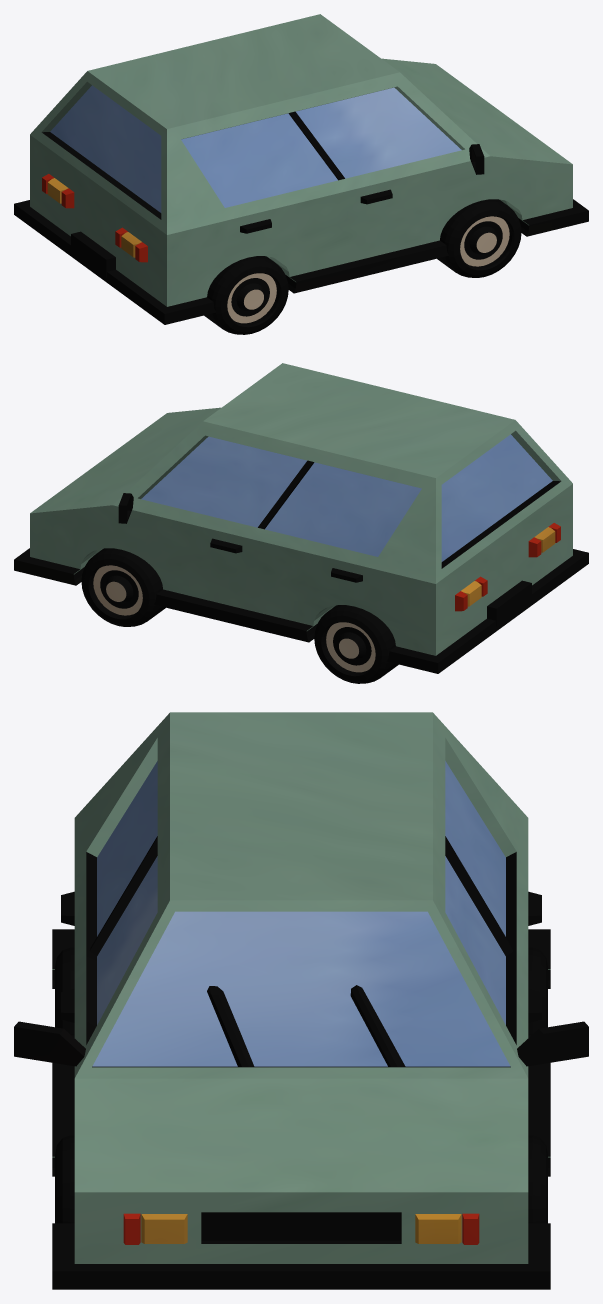
Rendered from araba minik yeni.fbx.
3 renders of one model, top to bottom at view 1: azimuth 30°, elevation 25°; view 2: azimuth 150°, elevation 25°; view 3: azimuth 270°, elevation 25°, orthographic. The views are drawn at different scales.
Visible parts, largest first — view 1: Plane.005; view 2: Plane.005; view 3: Plane.005.
Boxes of the visible parts, <box> form: Plane.005: <box>14,14,588,334</box>; Plane.005: <box>14,363,588,683</box>; Plane.005: <box>14,712,588,1289</box>.
Bounding box in the file's own units: 288 × 126 × 204.
Materials: 1 (1 with a texture image).
